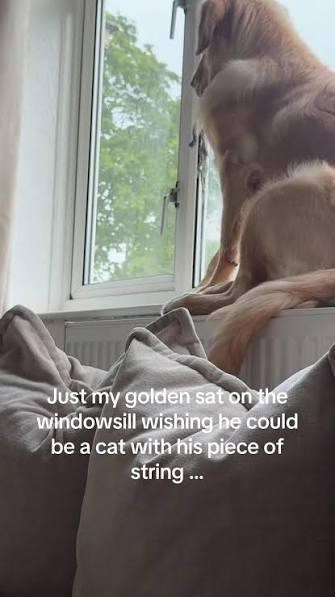adult_dog: (163, 0, 335, 377)
